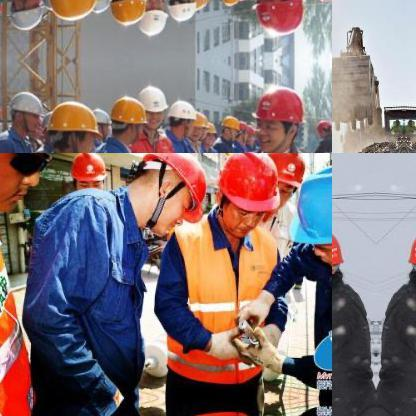Helmet: (213, 153, 280, 238), (127, 153, 194, 230), (290, 153, 331, 272), (0, 153, 75, 216), (250, 81, 301, 151), (47, 95, 100, 152), (264, 153, 304, 212), (250, 0, 303, 39), (106, 93, 142, 141), (7, 88, 42, 136), (66, 153, 108, 191), (46, 0, 100, 25), (7, 0, 45, 32), (140, 82, 166, 128), (139, 0, 169, 38), (105, 0, 144, 27), (332, 222, 347, 292), (166, 100, 194, 136), (402, 222, 415, 293), (88, 103, 110, 141), (165, 0, 196, 20), (218, 112, 238, 142), (87, 0, 111, 17), (315, 117, 331, 142), (202, 120, 216, 146), (192, 107, 202, 141), (217, 0, 240, 8), (191, 0, 203, 13), (315, 0, 331, 3)
